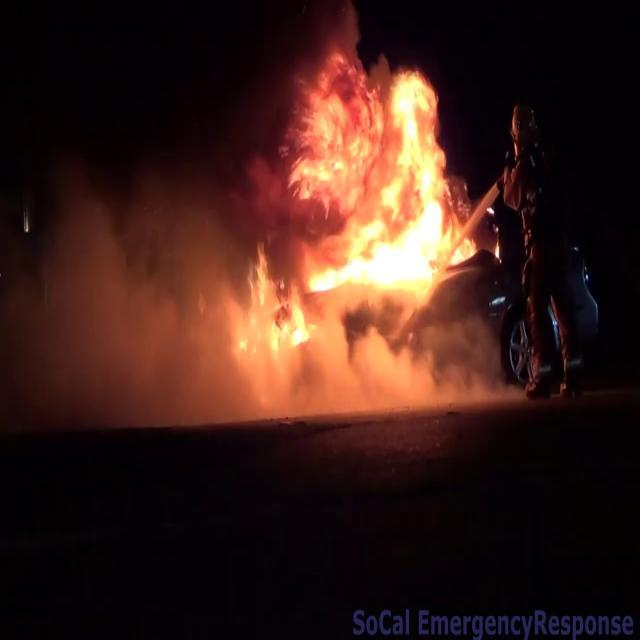Fire: (214, 35, 476, 328)
Smoke: (0, 131, 252, 426)
